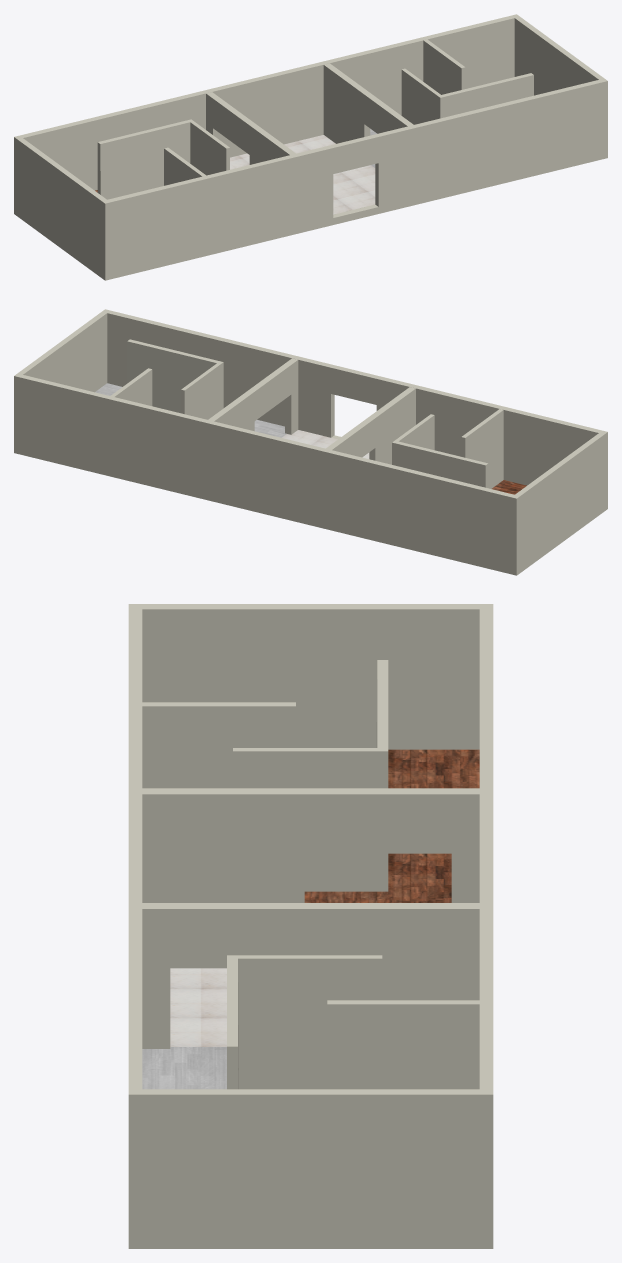
The model's file is interior2.fbx.
3 renders of one model, top to bottom at view 1: azimuth 30°, elevation 25°; view 2: azimuth 150°, elevation 25°; view 3: azimuth 270°, elevation 25°, orthographic. The views are drawn at different scales.
Parts seen in each view (by area): view 1: Cube.003, Cube.005, Cube.007, Cube.006, Cube.001, Cube.008, Cube.004; view 2: Cube.003, Cube.006, Cube.005, Cube.007, Cube.001, Cube.004, Cube.008; view 3: Cube.003, Cube.001, Cube.007, Cube.006, Cube.008, Cube.004, Cube.005.
Part boxes in pixels (<box>): Cube.003: <box>14,14,607,280</box>; Cube.005: <box>97,119,229,199</box>; Cube.007: <box>323,63,413,143</box>; Cube.006: <box>401,68,533,124</box>; Cube.001: <box>206,92,295,164</box>; Cube.008: <box>423,39,465,94</box>; Cube.004: <box>164,147,205,185</box>; Cube.003: <box>14,309,607,575</box>; Cube.006: <box>127,339,223,419</box>; Cube.005: <box>392,414,488,488</box>; Cube.007: <box>208,358,298,434</box>; Cube.001: <box>326,387,415,464</box>; Cube.004: <box>461,409,503,488</box>; Cube.008: <box>111,368,152,405</box>; Cube.003: <box>128,604,493,1248</box>; Cube.001: <box>142,788,479,902</box>; Cube.007: <box>142,903,479,1048</box>; Cube.006: <box>227,955,382,1089</box>; Cube.008: <box>327,1000,479,1089</box>; Cube.004: <box>142,702,295,788</box>; Cube.005: <box>233,660,388,891</box>.
Size of the model in its own units: 24808 by 3634 by 7794.
4 materials, 2 textured.
